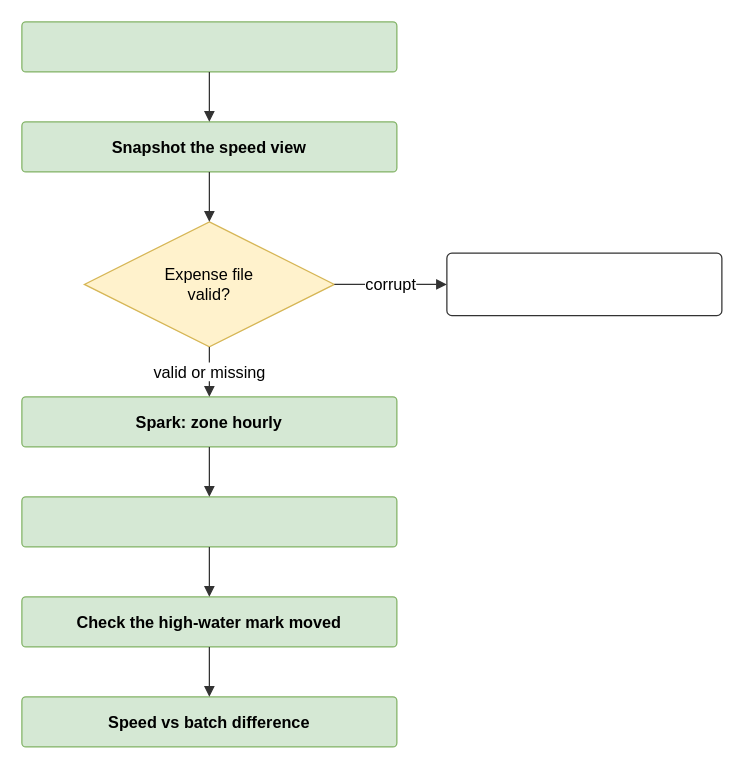
Some shapes in this 744 by 769 pixel diagram are drawn without their labels. The shapes that lost their labels are listed below. From the top down, each one's centre as x and y in pixels, then its label:
At [209,46]: "Resolve the sim date".
At [584,284]: "Quarantine the file, report failure".
At [209,521]: "Spark: vehicle profit and loss".
